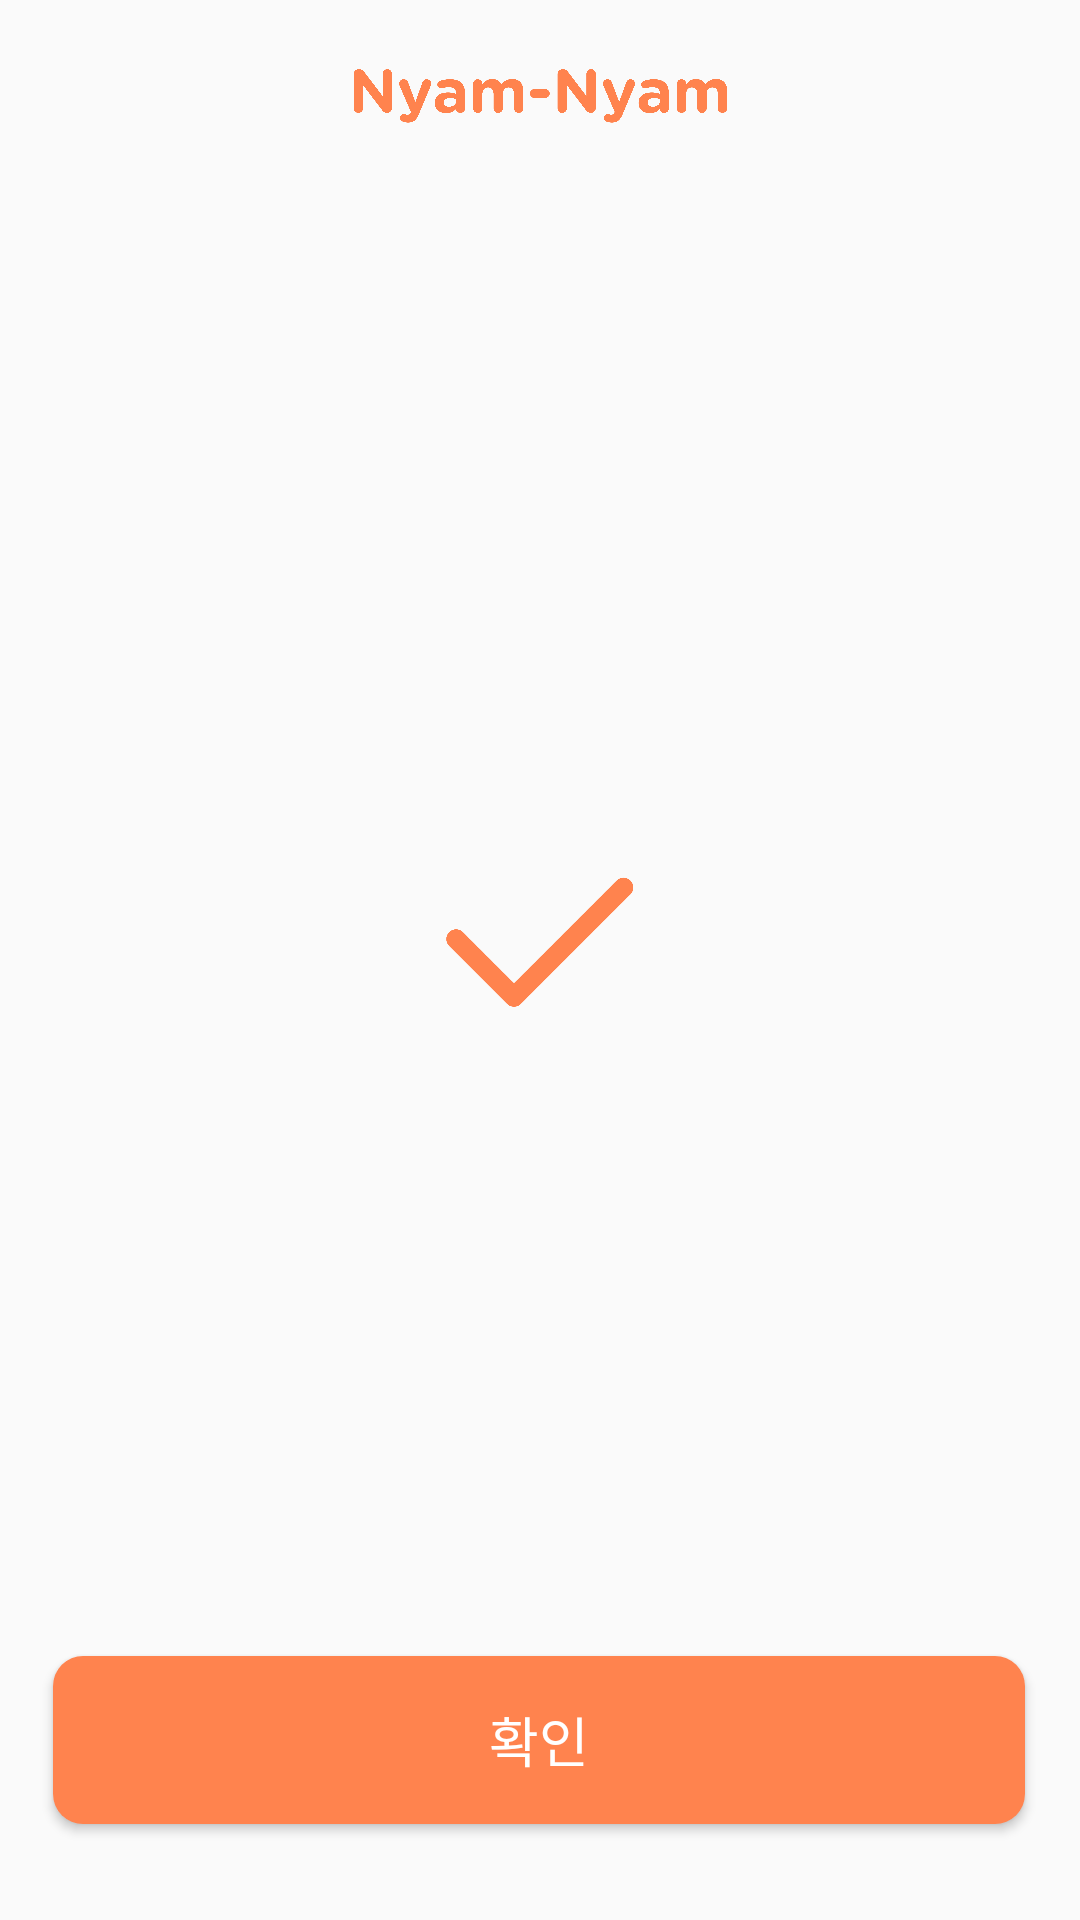

Locate icon controls on the screen. Image size 1080x1920, boxes as (x1, y1, x2, y2).
success: (446, 878, 633, 1007)
